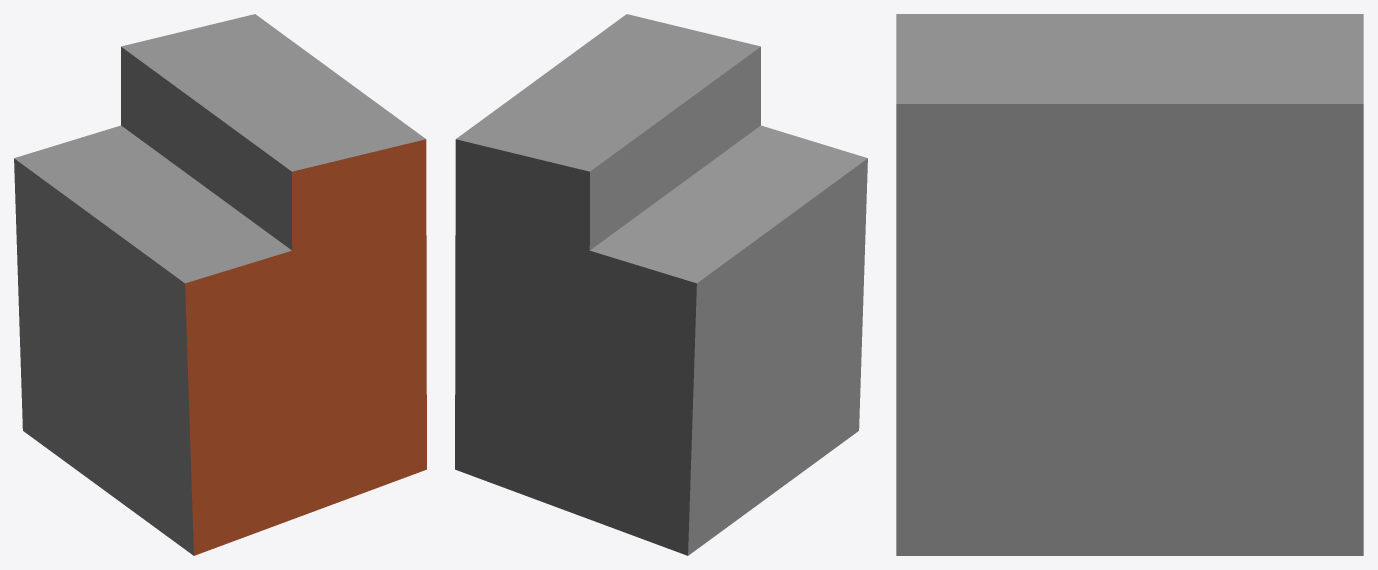
File: construction_4863_assumed_A_Casa_h6m.obj
The picture shows the model from 3 angles, left to right: view 1: azimuth 30°, elevation 25°; view 2: azimuth 150°, elevation 25°; view 3: azimuth 270°, elevation 25°; orthographic projection. The views are drawn at different scales.
Visible parts, largest first — view 1: construction_4863_assumed_A_Casa; view 2: construction_4863_assumed_A_Casa; view 3: construction_4863_assumed_A_Casa.
Part boxes in pixels (x1,y1,x2,y2): construction_4863_assumed_A_Casa: (14, 14, 426, 555); construction_4863_assumed_A_Casa: (455, 14, 867, 555); construction_4863_assumed_A_Casa: (896, 14, 1363, 555).
Size of the model in its own units: 4.9 by 6.97 by 6.
